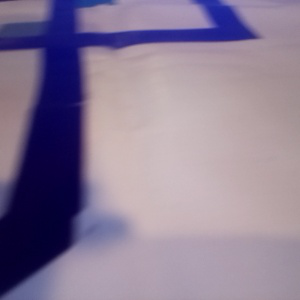top_left: (1, 23, 74, 48)
top_right: (52, 1, 115, 8)
